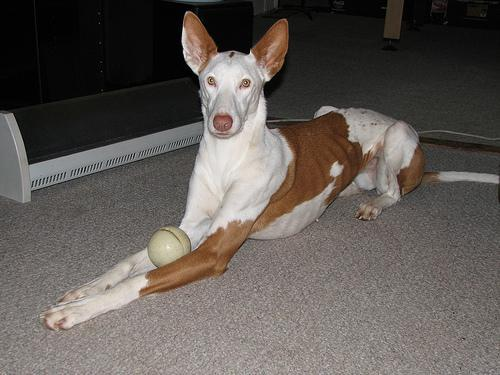Ibizan_hound: (41, 9, 499, 327)
